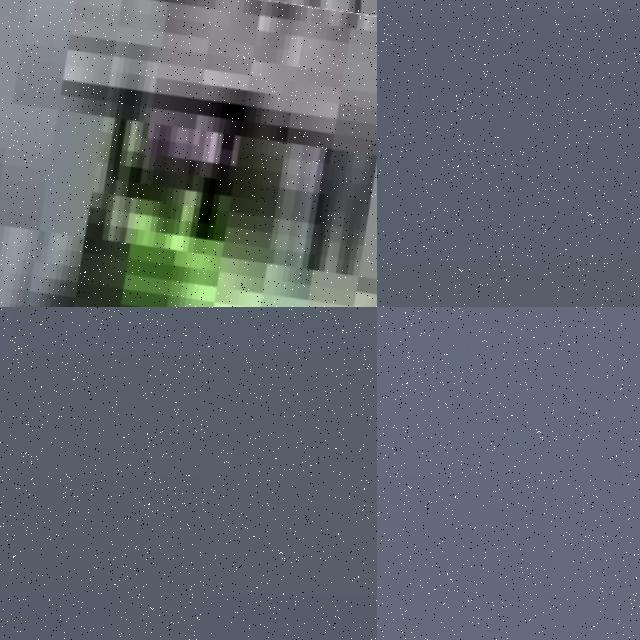drone: (0, 0, 377, 307)
